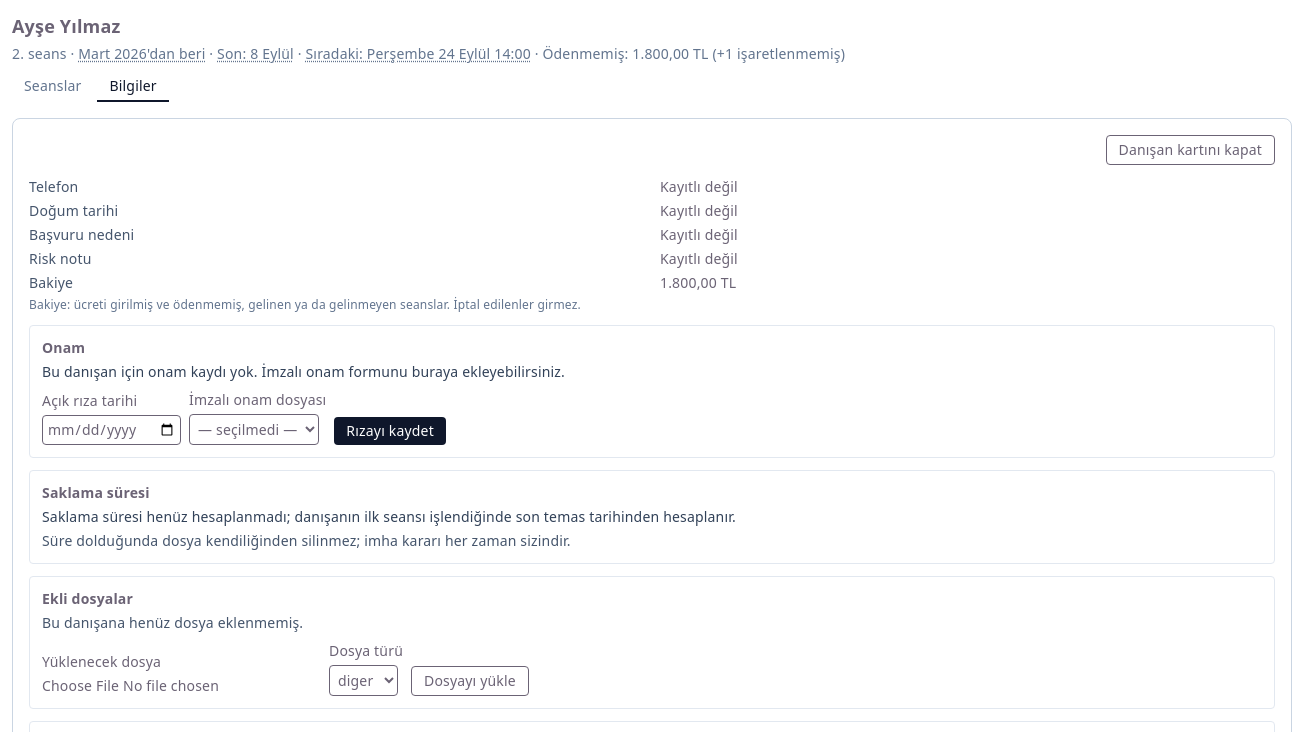
Test: DanisanDosyasi — başlık özeti (tasarım B2) › bağlantı Seanslar alt sekmesine geçer ve o seansı seçer (Bilgiler'den de)
Click the button "Son: 8 Eylül". click: (256, 54)
box: [217,44,294,64]
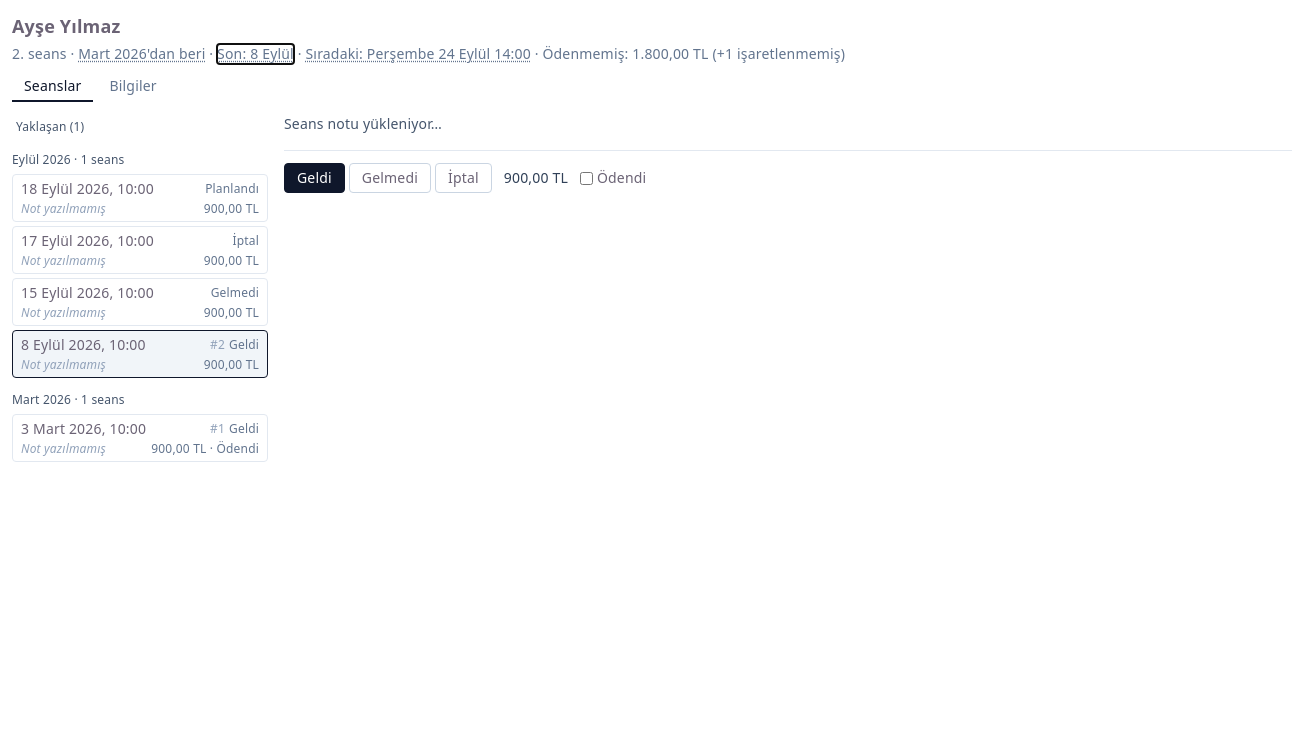
Result: the button "8 Eylül 2026, 10:00 #2 Geldi Not yazılmamış 900,00 TL" is shown at [12,330,268,378]
Click the button "Mart 2026'dan beri". click: (142, 54)
box: [78,44,206,64]
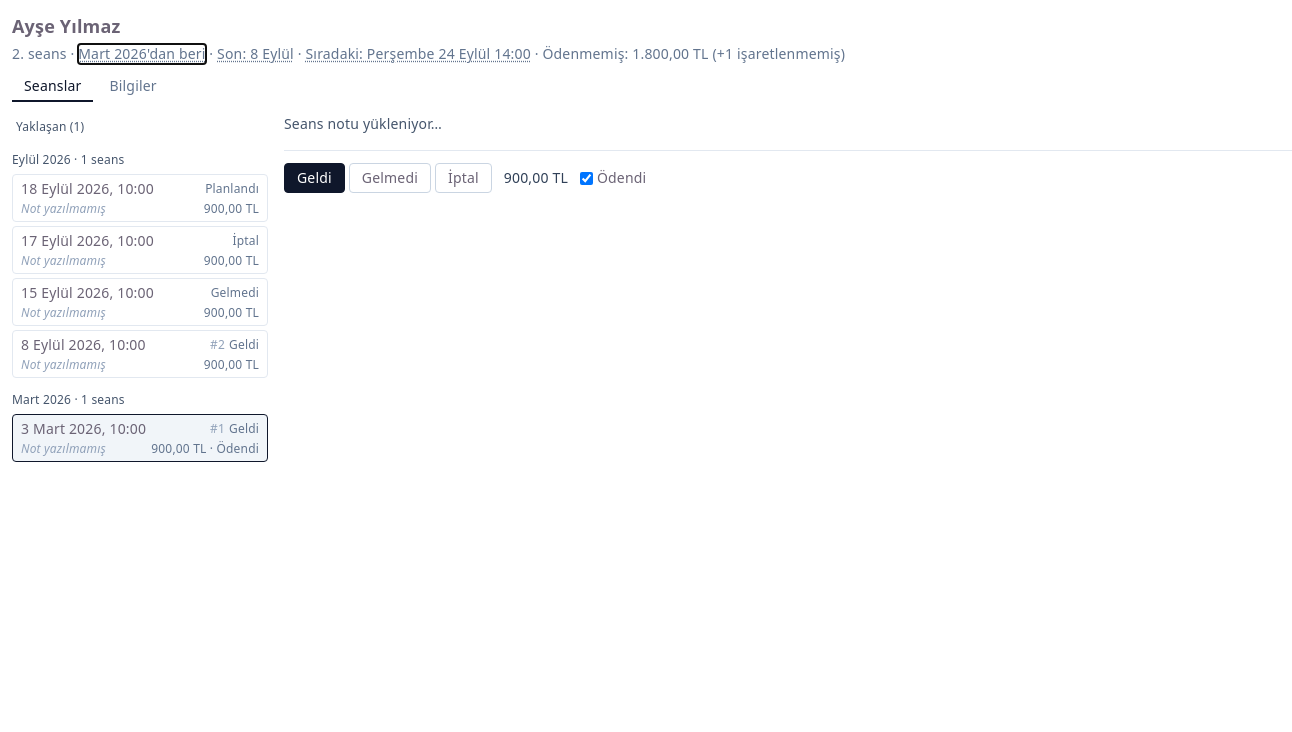
Result: the button that starts with "3 Mart 2026, 10:00" is shown at [12,414,268,462]
Click the button "Sıradaki: Perşembe 24 Eylül 14:00". click: (418, 54)
box: [306,44,531,64]
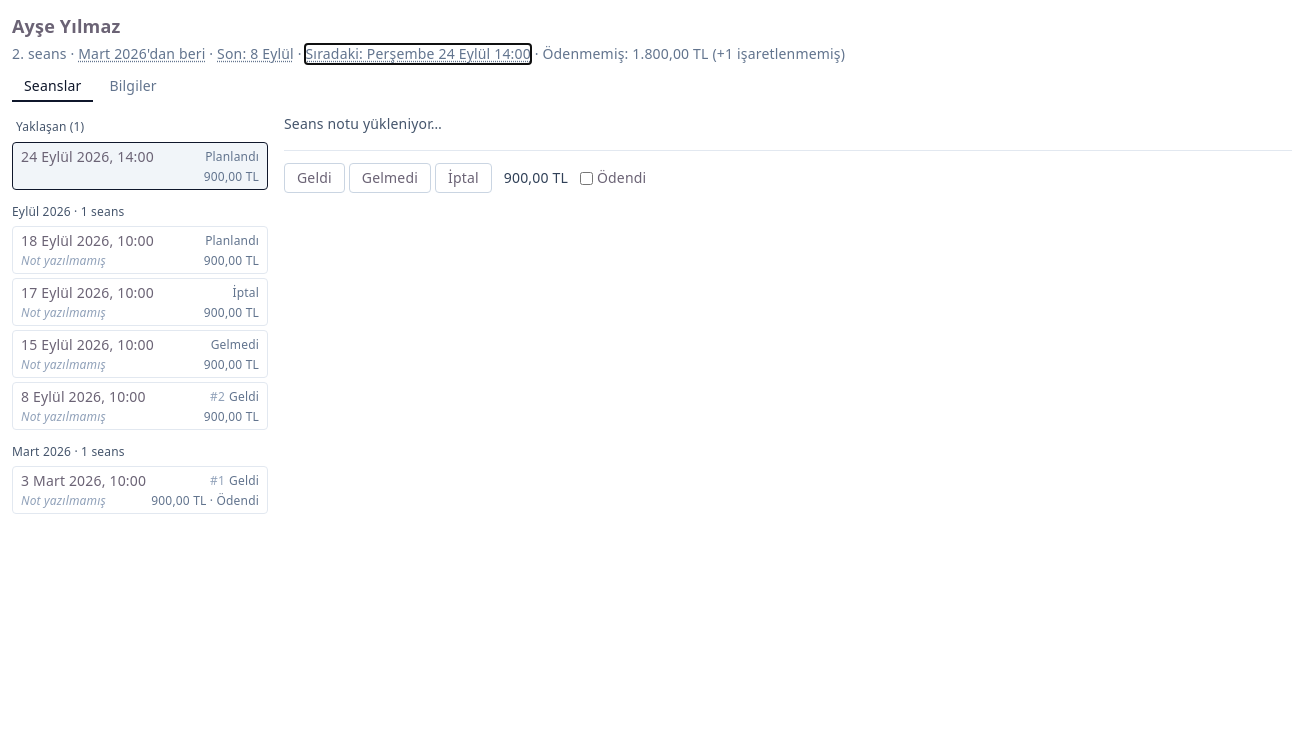
Result: the button "24 Eylül 2026, 14:00 Planlandı 900,00 TL" is shown at [12,142,268,190]
